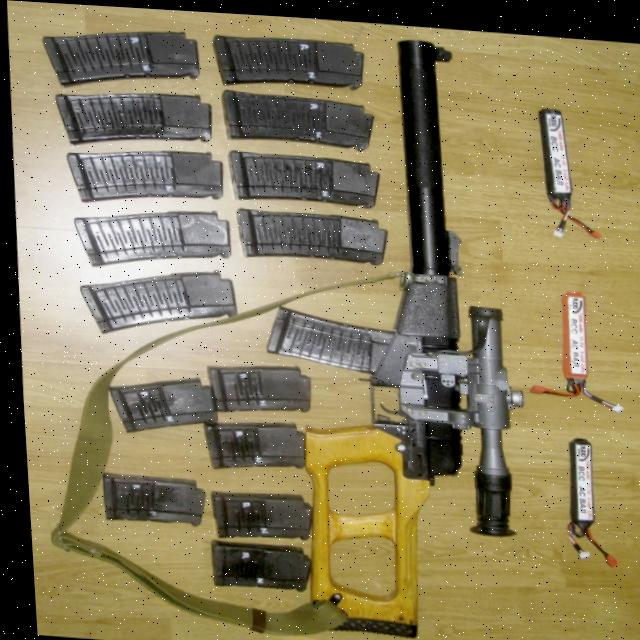firearm: (239, 23, 536, 640)
